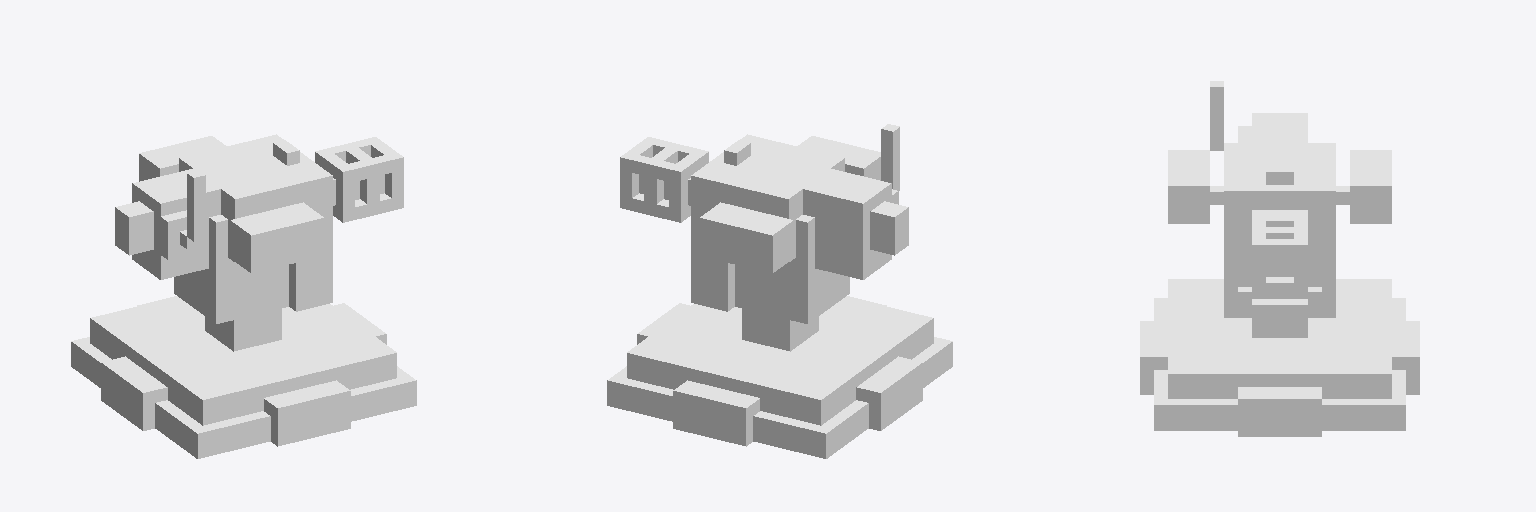
File: Turret(Tower_Defens)-1.obj
The picture shows the model from 3 angles: view 1: azimuth 30°, elevation 25°; view 2: azimuth 150°, elevation 25°; view 3: azimuth 270°, elevation 25°; orthographic projection.
Parts seen in each view (by area): view 1: default; view 2: default; view 3: default.
Part boxes in pixels (x1,y1,x2,y2): default: (71, 134, 416, 458); default: (607, 124, 952, 458); default: (1140, 81, 1419, 436).
Size of the model in its own units: 2.2 by 2 by 2.